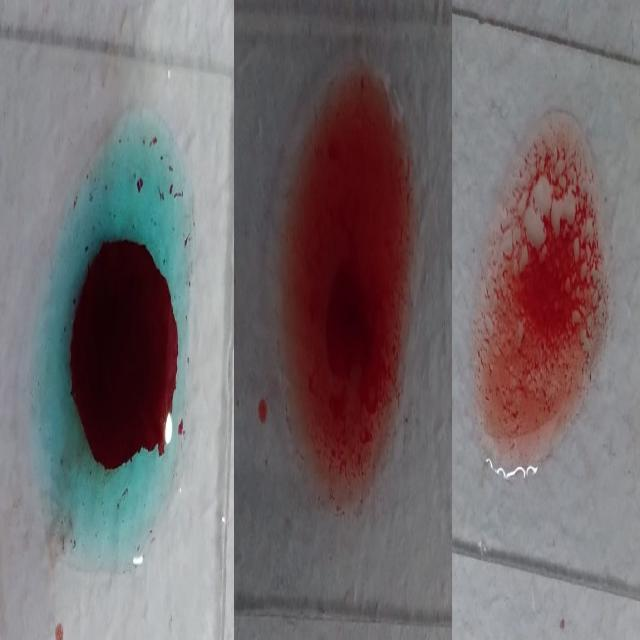A: (51, 102, 189, 564)
B: (267, 46, 414, 515)
D: (472, 106, 603, 475)
